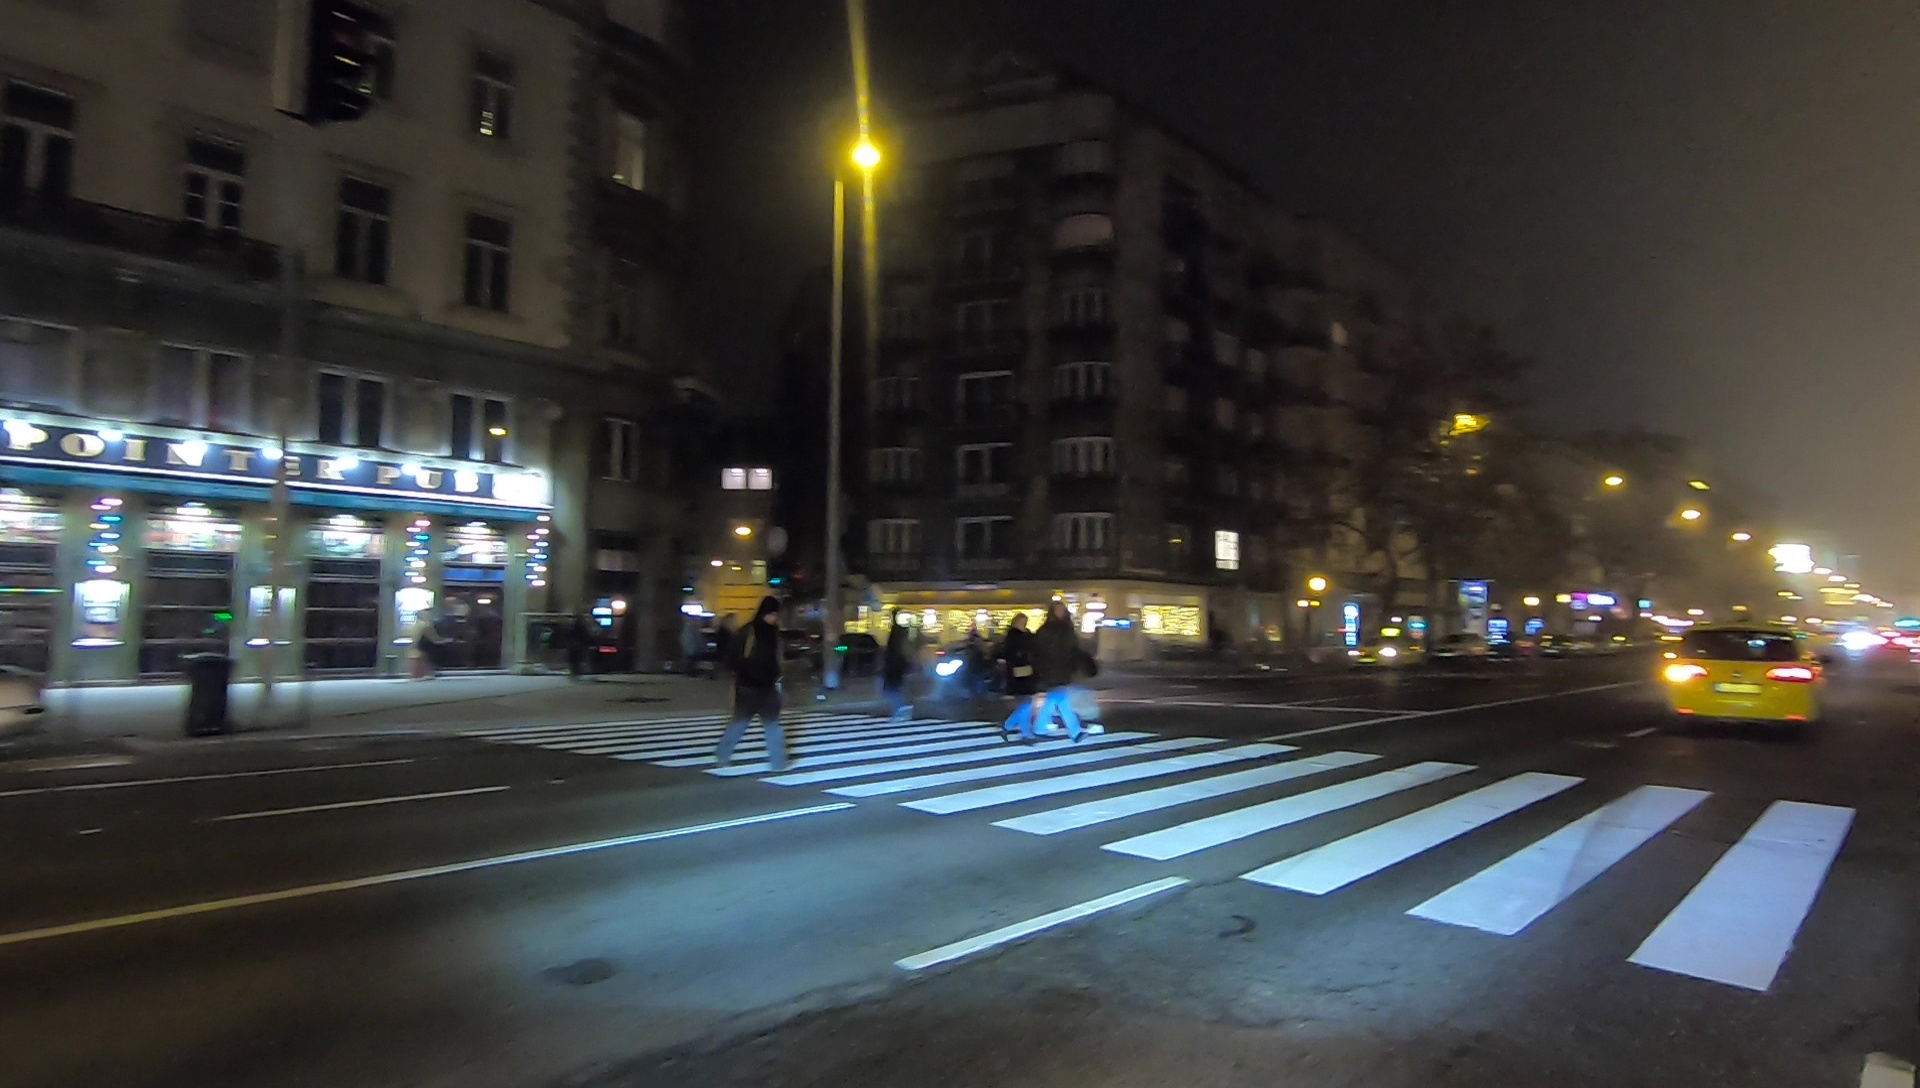person: (726, 599, 792, 767), (1041, 600, 1093, 739), (873, 607, 918, 725), (1001, 613, 1041, 741), (411, 609, 437, 675), (568, 603, 585, 672)
